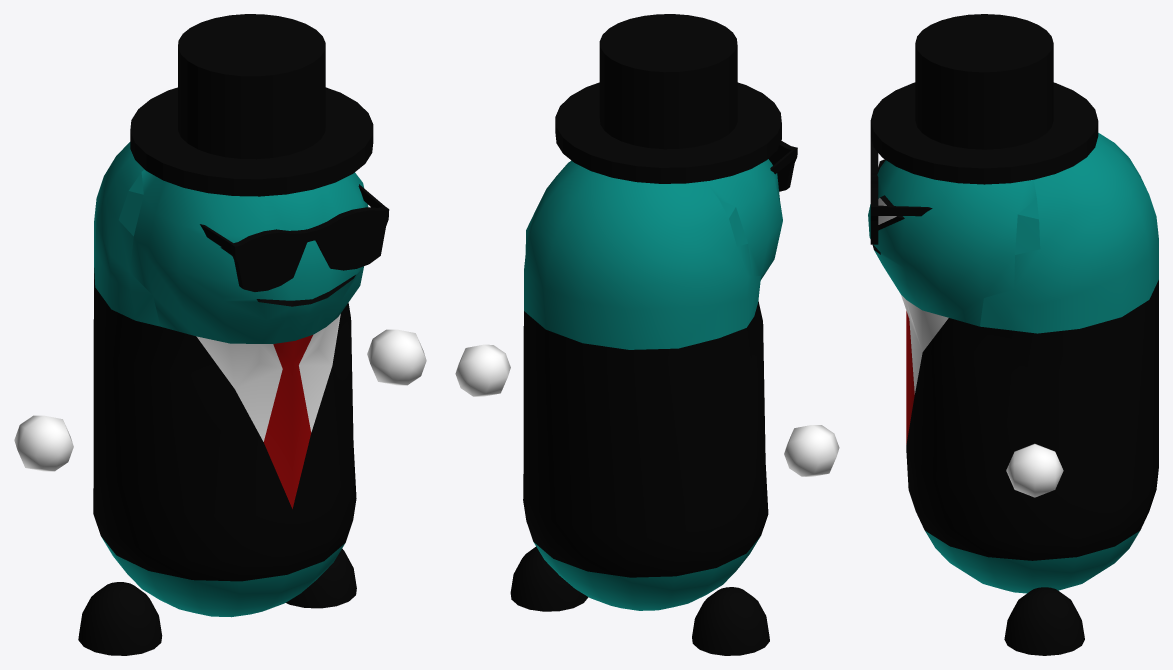
The model's file is player_end.fbx.
The picture shows the model from 3 angles, left to right: view 1: azimuth 30°, elevation 25°; view 2: azimuth 150°, elevation 25°; view 3: azimuth 270°, elevation 25°; orthographic projection. The views are drawn at different scales.
Parts seen in each view (by area): view 1: Capsule002, Circle001, Rectangle002, Sphere004, Sphere003, Sphere002, Sphere005; view 2: Capsule002, Circle001, Sphere004, Sphere005, Sphere002, Sphere003, Rectangle002; view 3: Capsule002, Circle001, Sphere005, Sphere002, Rectangle002.
Part boxes in pixels (box(x1,y1,x2,y2)): Capsule002: box(93, 142, 368, 617); Circle001: box(130, 14, 373, 196); Rectangle002: box(200, 184, 389, 291); Sphere004: box(78, 582, 162, 655); Sphere003: box(14, 415, 73, 471); Sphere002: box(367, 329, 426, 385); Sphere005: box(286, 548, 356, 608); Capsule002: box(523, 159, 782, 610); Circle001: box(555, 14, 781, 183); Sphere004: box(692, 587, 769, 655); Sphere005: box(510, 546, 588, 611); Sphere002: box(455, 344, 510, 396); Sphere003: box(784, 425, 839, 476); Rectangle002: box(768, 141, 797, 191); Capsule002: box(868, 133, 1158, 593); Circle001: box(870, 14, 1098, 184); Sphere005: box(1004, 587, 1084, 655); Sphere002: box(1006, 443, 1063, 497); Rectangle002: box(870, 137, 932, 244).
Bounding box in the file's own units: 68.19 × 94.98 × 45.31.
